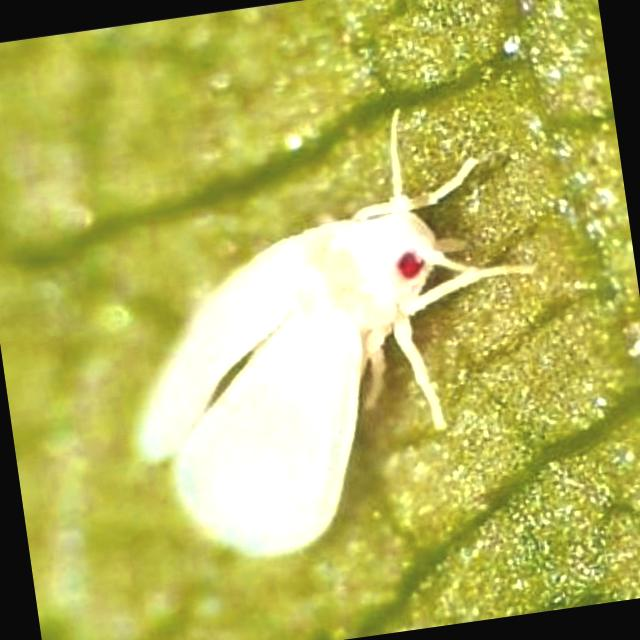Silverleaf whitefly: (88, 77, 576, 594)
